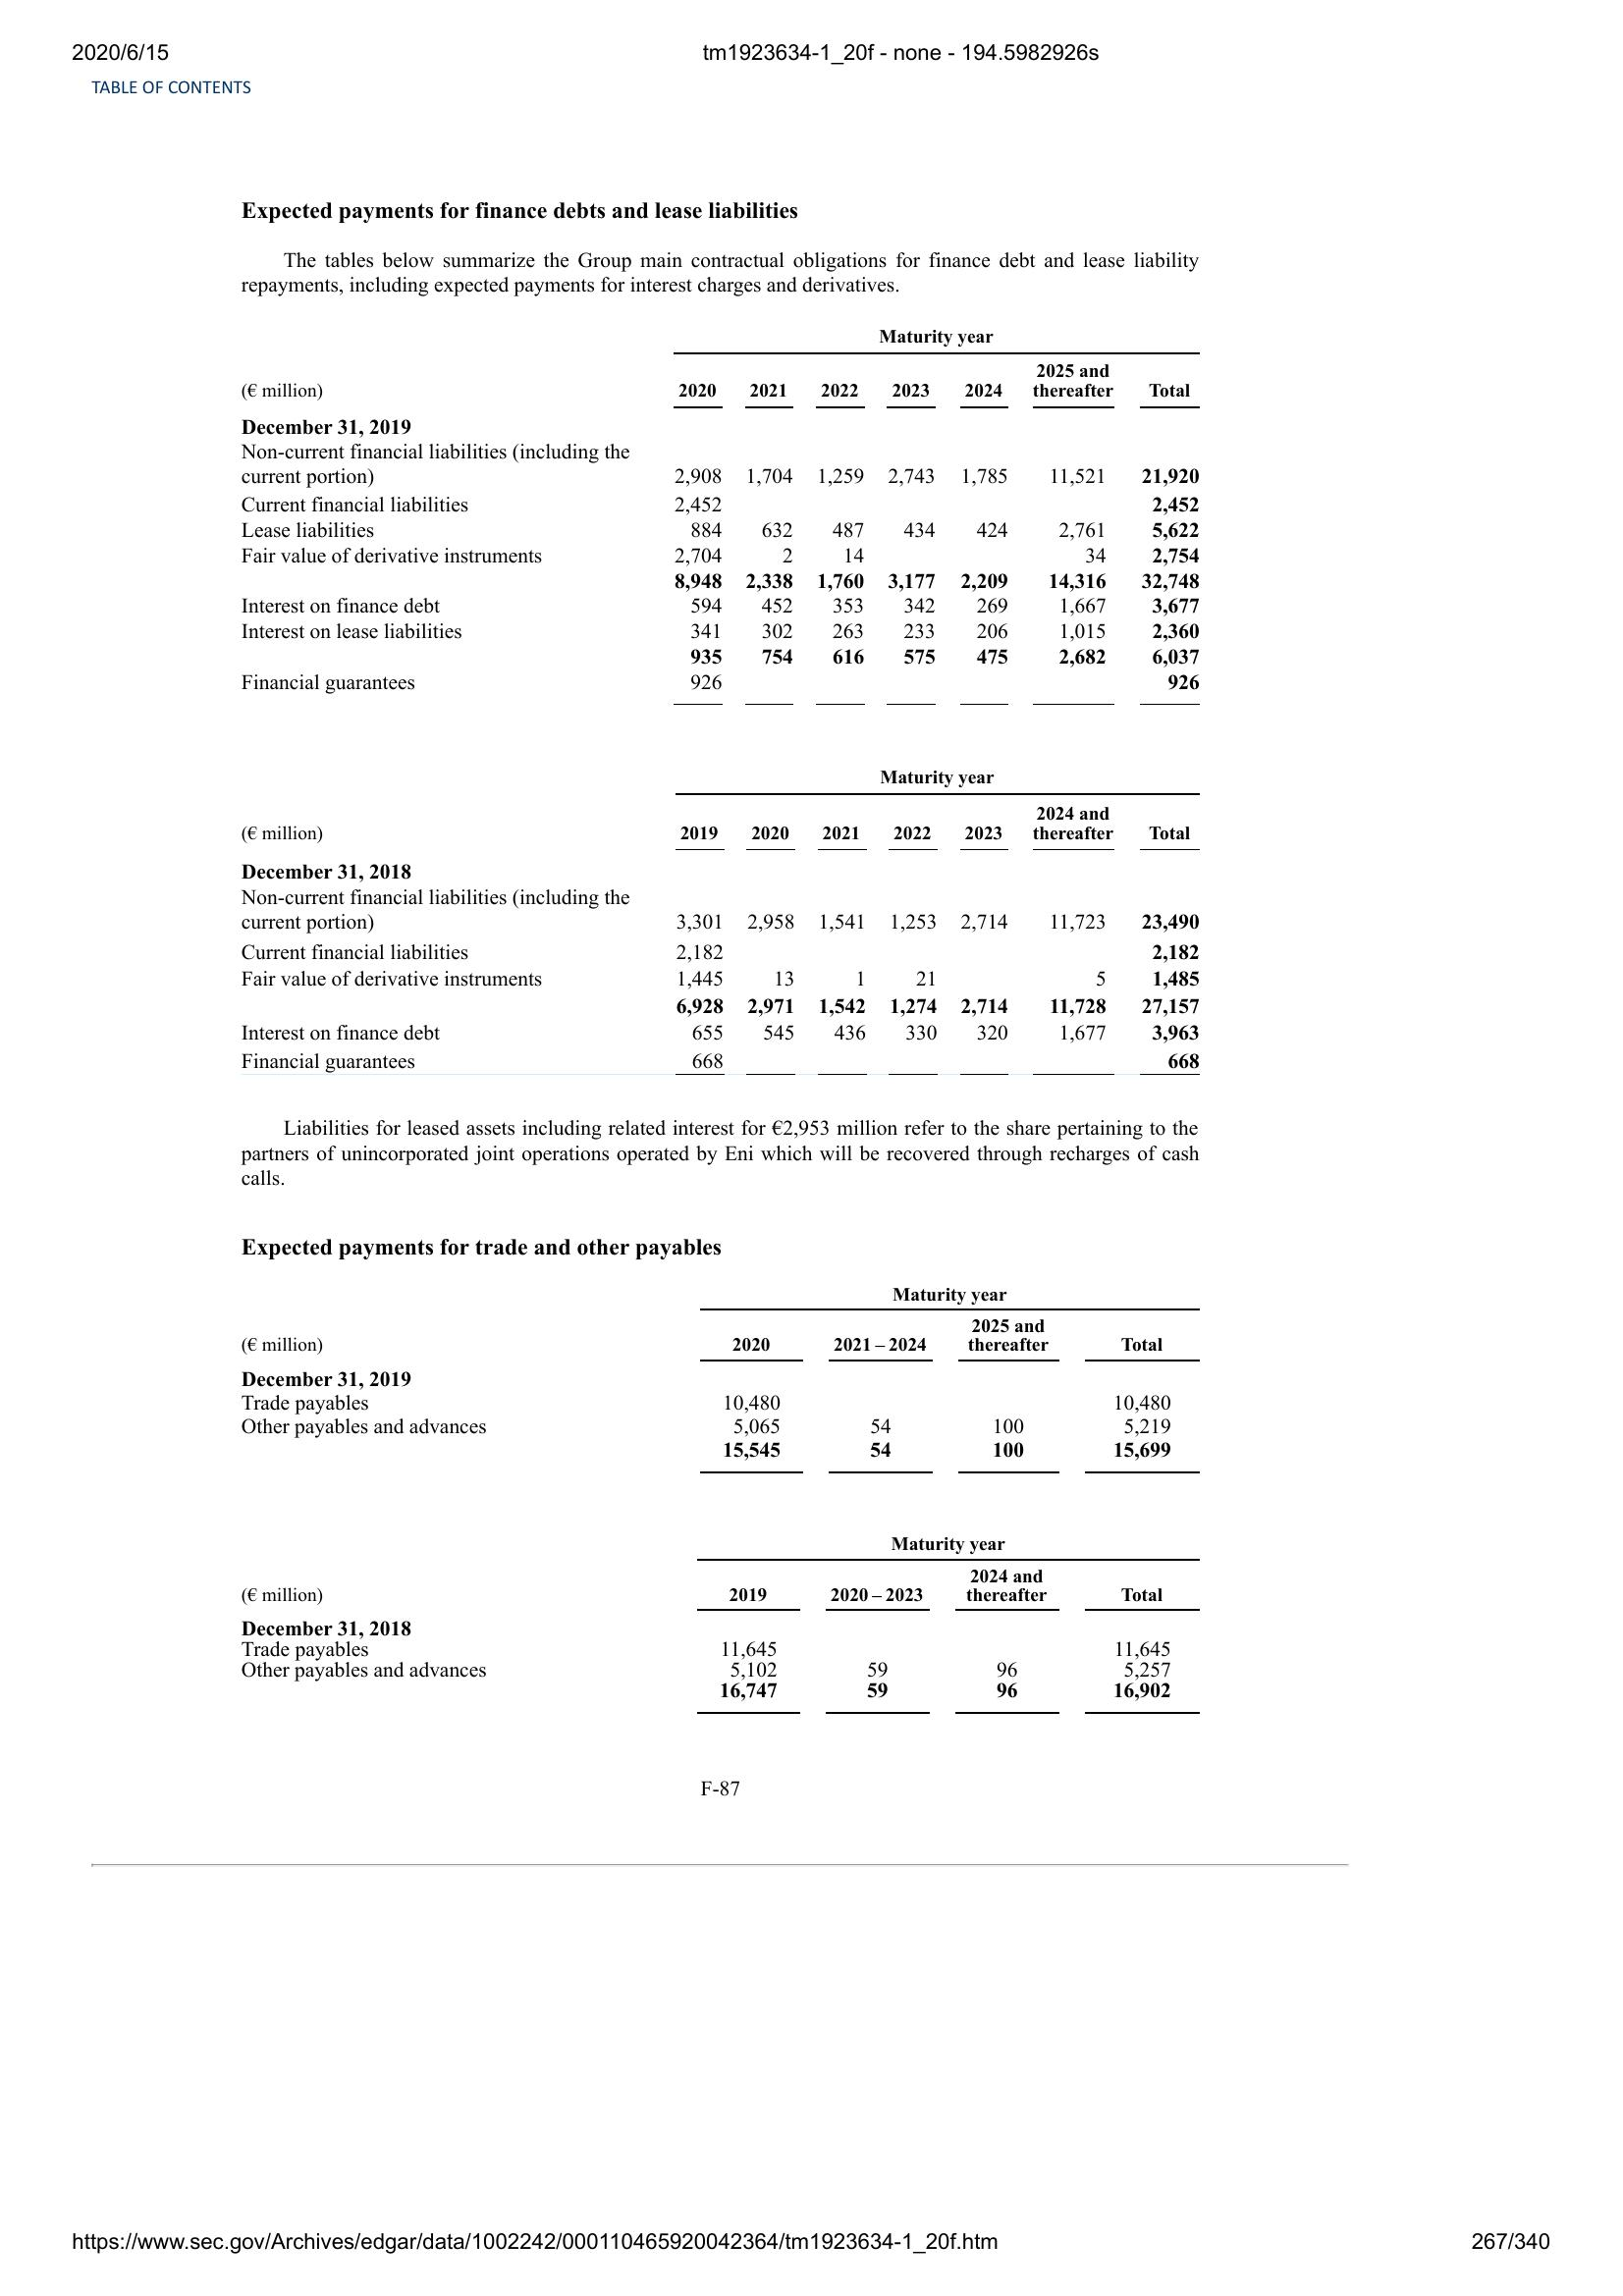table: (237, 325, 1205, 706), (235, 767, 1210, 1076), (232, 1287, 1208, 1482), (235, 1532, 1203, 1720)
